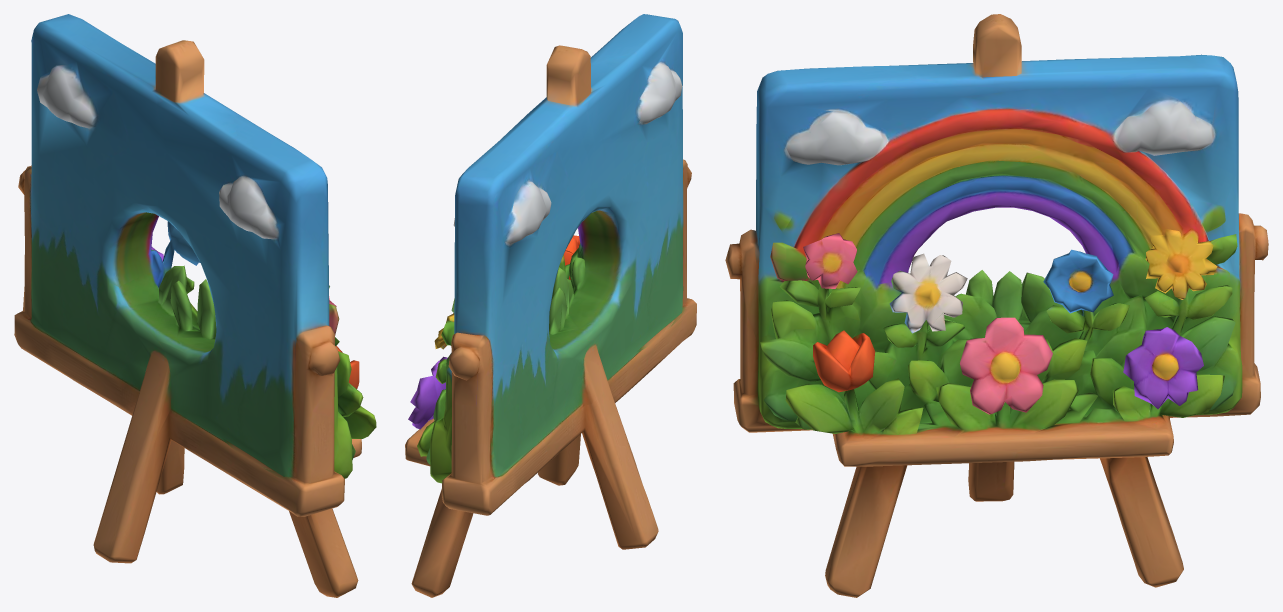
Rendered from easel.glb.
The picture shows the model from 3 angles, left to right: view 1: azimuth 30°, elevation 25°; view 2: azimuth 150°, elevation 25°; view 3: azimuth 270°, elevation 25°; orthographic projection. The views are drawn at different scales.
Visible parts, largest first — view 1: tripo_node_07a6ba94-68b1-4469-b558-bede36cc17e0; view 2: tripo_node_07a6ba94-68b1-4469-b558-bede36cc17e0; view 3: tripo_node_07a6ba94-68b1-4469-b558-bede36cc17e0.
Part boxes in pixels (x1,y1,x2,y2): tripo_node_07a6ba94-68b1-4469-b558-bede36cc17e0: (14,14,376,597); tripo_node_07a6ba94-68b1-4469-b558-bede36cc17e0: (405,14,696,597); tripo_node_07a6ba94-68b1-4469-b558-bede36cc17e0: (725,14,1268,597).
Size of the model in its own units: 0.1727 by 0.45 by 0.414.
Materials: 1 (1 with a texture image).
